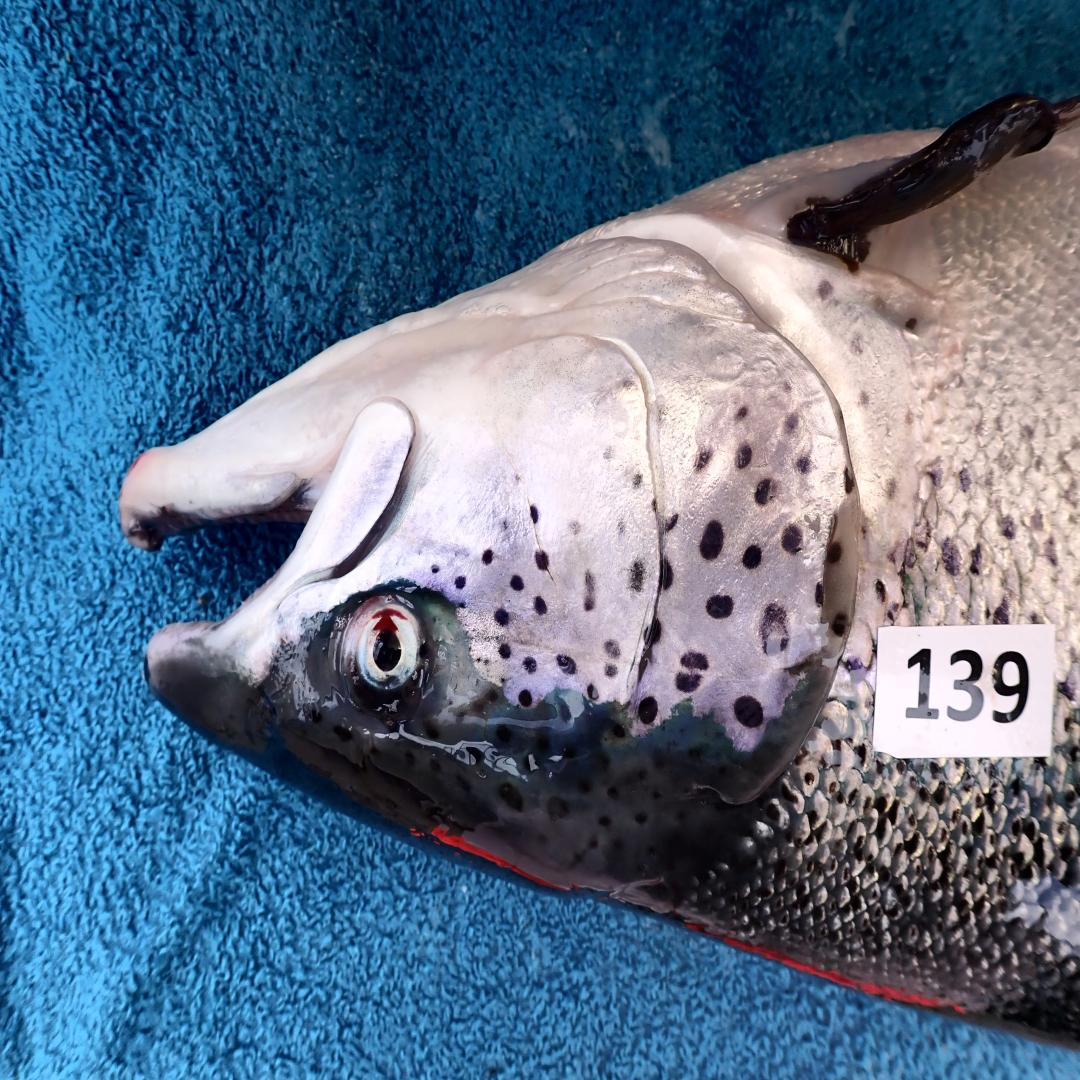spot: (759, 602, 789, 655), (675, 650, 709, 695), (734, 695, 764, 728), (700, 520, 724, 560), (780, 523, 804, 554), (707, 593, 734, 619), (755, 481, 778, 507), (637, 698, 658, 726), (734, 441, 753, 470), (675, 672, 702, 692), (696, 446, 715, 473), (640, 647, 653, 681), (557, 652, 576, 675), (631, 560, 645, 591), (584, 571, 595, 610), (742, 546, 761, 568), (794, 454, 813, 476), (832, 613, 847, 639), (603, 638, 620, 658), (783, 414, 799, 435), (825, 543, 842, 562), (665, 558, 674, 591), (534, 551, 548, 571), (844, 467, 854, 495), (494, 608, 508, 627), (534, 596, 546, 616), (814, 582, 823, 608), (510, 574, 523, 591), (519, 689, 532, 706), (523, 655, 536, 672), (481, 548, 494, 565), (586, 683, 599, 700), (667, 515, 679, 532), (568, 521, 581, 536), (655, 620, 663, 644), (644, 624, 653, 645), (605, 664, 618, 678), (529, 503, 538, 523), (633, 472, 643, 489), (498, 644, 510, 658), (659, 406, 667, 427), (622, 380, 636, 392), (735, 408, 746, 422), (604, 446, 613, 461), (456, 577, 466, 588), (618, 521, 624, 535), (513, 471, 520, 482), (652, 499, 657, 514), (432, 566, 440, 575), (502, 521, 508, 532)
